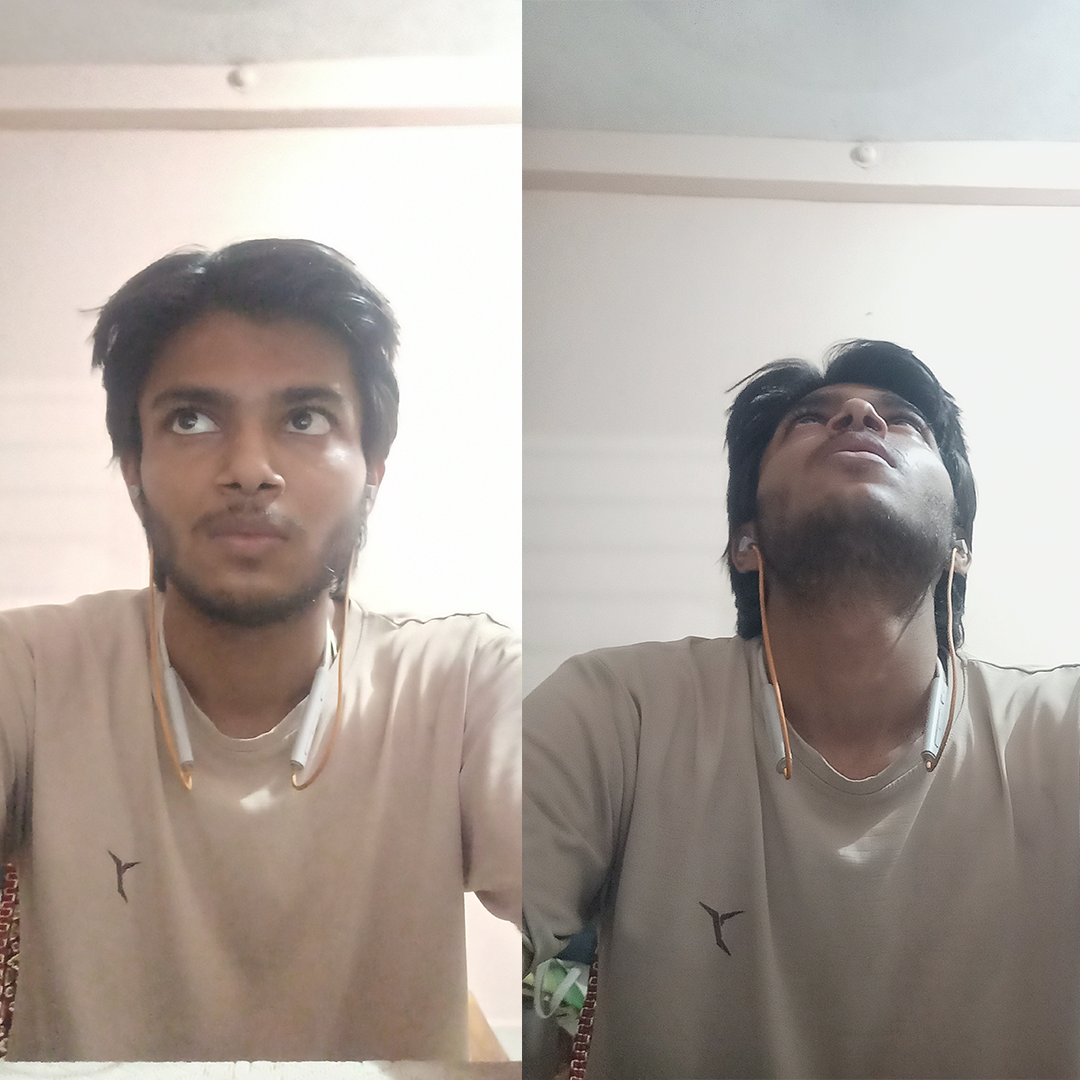distracted: (87, 197, 424, 684), (762, 342, 945, 540)
